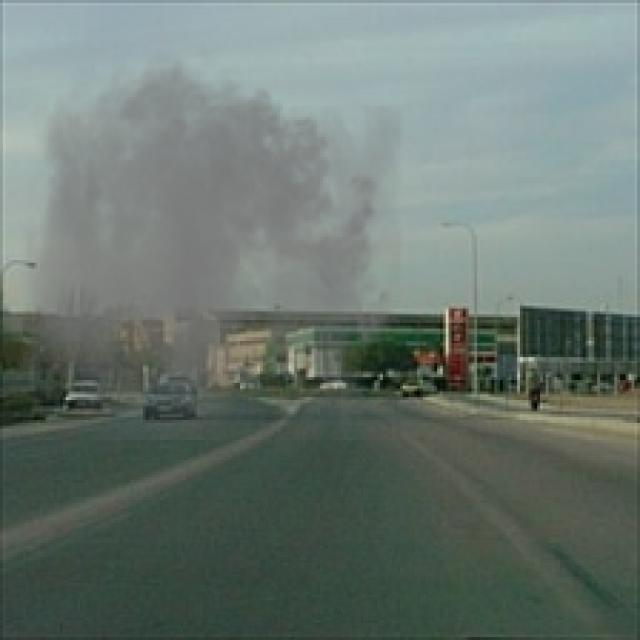smoke: (20, 40, 403, 440)
